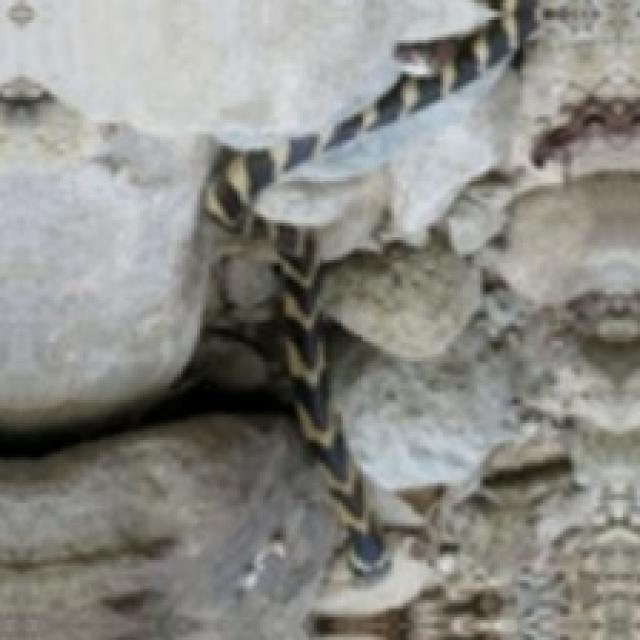king cobra: (197, 0, 637, 637), (203, 0, 531, 571)
